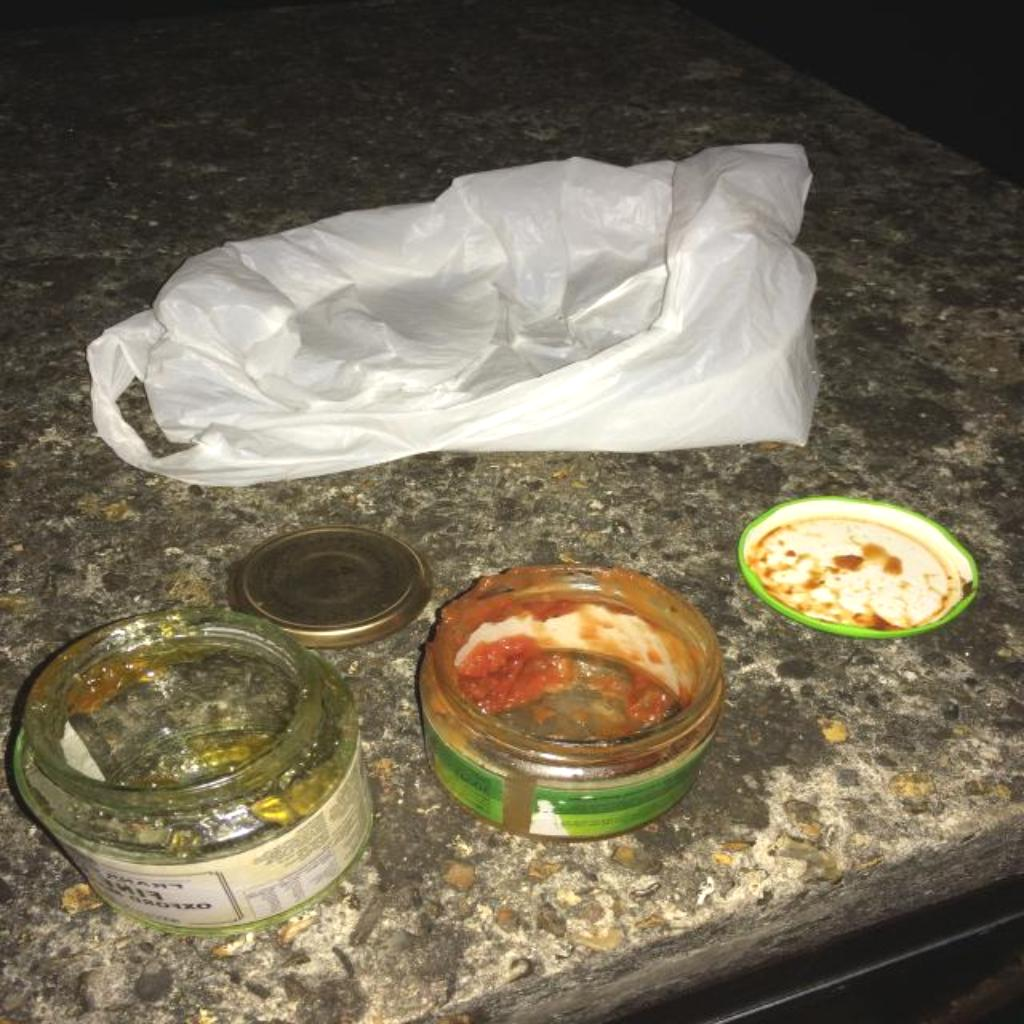garbage: (81, 134, 823, 490), (732, 494, 983, 634), (235, 522, 430, 638)
